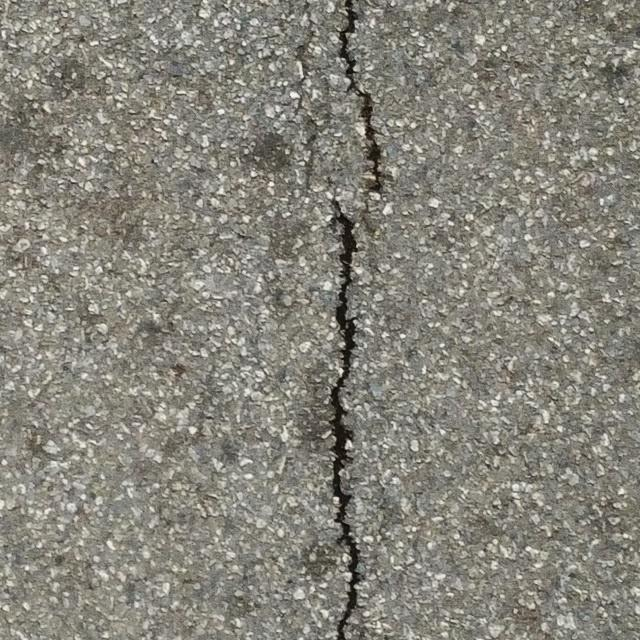LongitudinalCrack: (327, 196, 365, 640), (337, 1, 385, 191)
